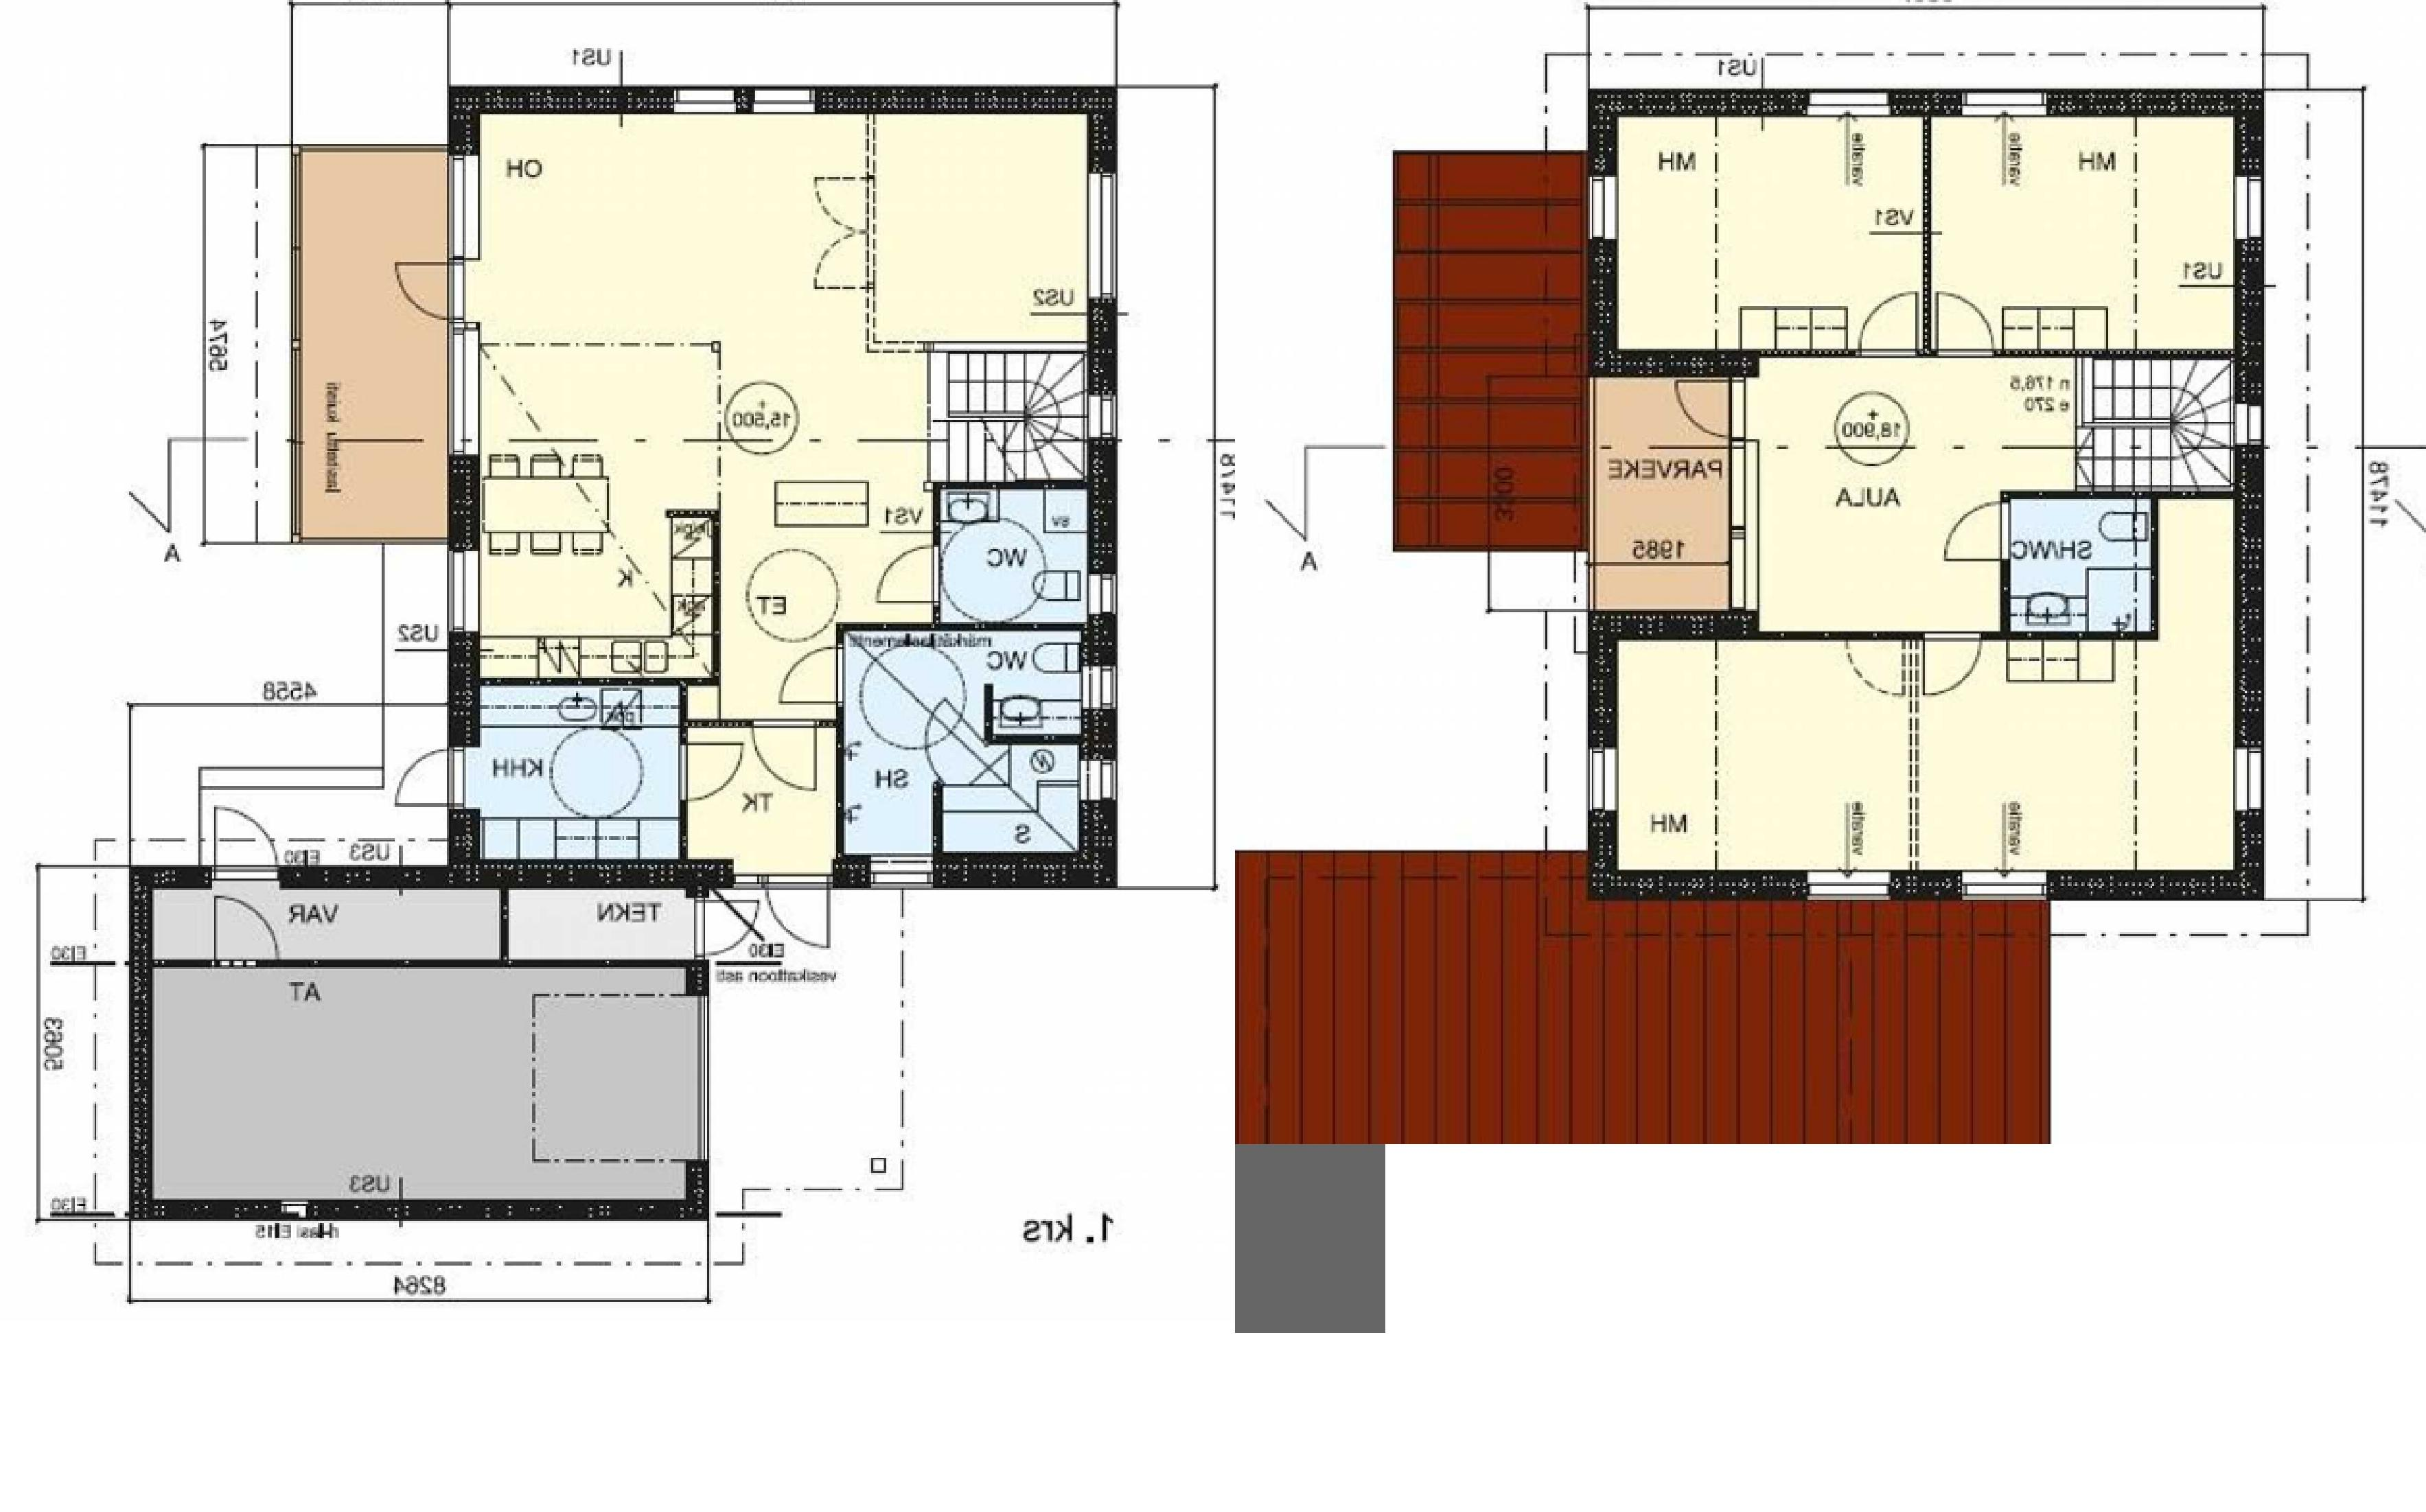window: (803, 169, 881, 294), (918, 699, 1010, 780), (388, 747, 486, 824), (677, 894, 770, 972), (218, 796, 291, 894), (1832, 625, 1910, 709), (1940, 489, 2018, 566), (756, 716, 827, 800), (1080, 172, 1122, 312), (211, 894, 279, 977), (446, 326, 486, 458), (867, 535, 940, 606), (772, 632, 843, 704), (1860, 282, 1923, 362), (1917, 629, 1985, 702), (765, 871, 834, 941), (1933, 282, 1994, 350), (448, 152, 482, 260), (1674, 375, 1745, 427), (1809, 866, 1891, 906), (677, 747, 744, 796), (388, 265, 462, 308), (1966, 871, 2046, 909), (869, 852, 935, 894), (1080, 660, 1122, 723), (2231, 178, 2271, 242), (756, 82, 817, 124), (2231, 744, 2266, 817), (1963, 91, 2043, 120), (1813, 87, 1884, 118), (667, 82, 733, 115), (1594, 176, 1618, 249), (1076, 763, 1122, 800), (1075, 395, 1109, 437), (1083, 571, 1111, 620), (2234, 401, 2261, 449), (275, 1198, 307, 1218)
zone: (482, 111, 1083, 732), (1233, 847, 2048, 1143), (1599, 493, 2231, 869), (150, 960, 691, 1205), (1735, 354, 2067, 641), (1398, 150, 1588, 550), (1618, 115, 1923, 347), (1938, 117, 2233, 347), (303, 148, 446, 533), (843, 629, 1075, 855), (477, 685, 677, 857), (1592, 373, 1731, 610), (152, 888, 500, 963), (2079, 347, 2233, 491), (686, 728, 832, 867), (2005, 496, 2151, 636), (944, 493, 1085, 629), (509, 880, 690, 956)
